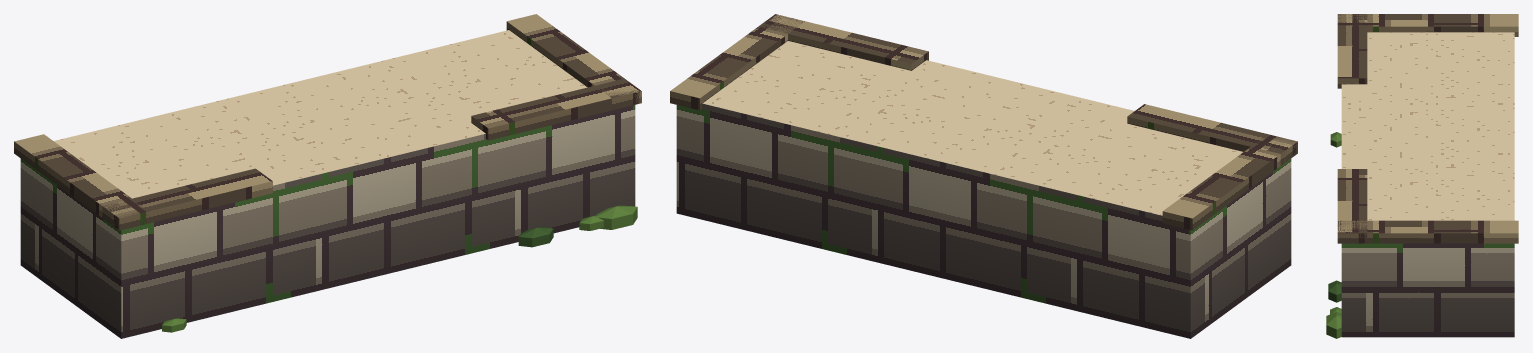
Rendered from scene_plat_o4.glb.
3 renders of one model, left to right at view 1: azimuth 30°, elevation 25°; view 2: azimuth 150°, elevation 25°; view 3: azimuth 270°, elevation 25°, orthographic. The views are drawn at different scales.
Visible parts, largest first — view 1: scene_plat_o4; view 2: scene_plat_o4; view 3: scene_plat_o4.
Boxes of the visible parts, x1=… form: scene_plat_o4: x1=14, y1=14, x2=641, y2=338; scene_plat_o4: x1=670, y1=14, x2=1297, y2=338; scene_plat_o4: x1=1326, y1=14, x2=1518, y2=338.
Bounding box in the file's own units: 6.3 × 1.51 × 2.34.
Materials: 3 (2 with a texture image).
